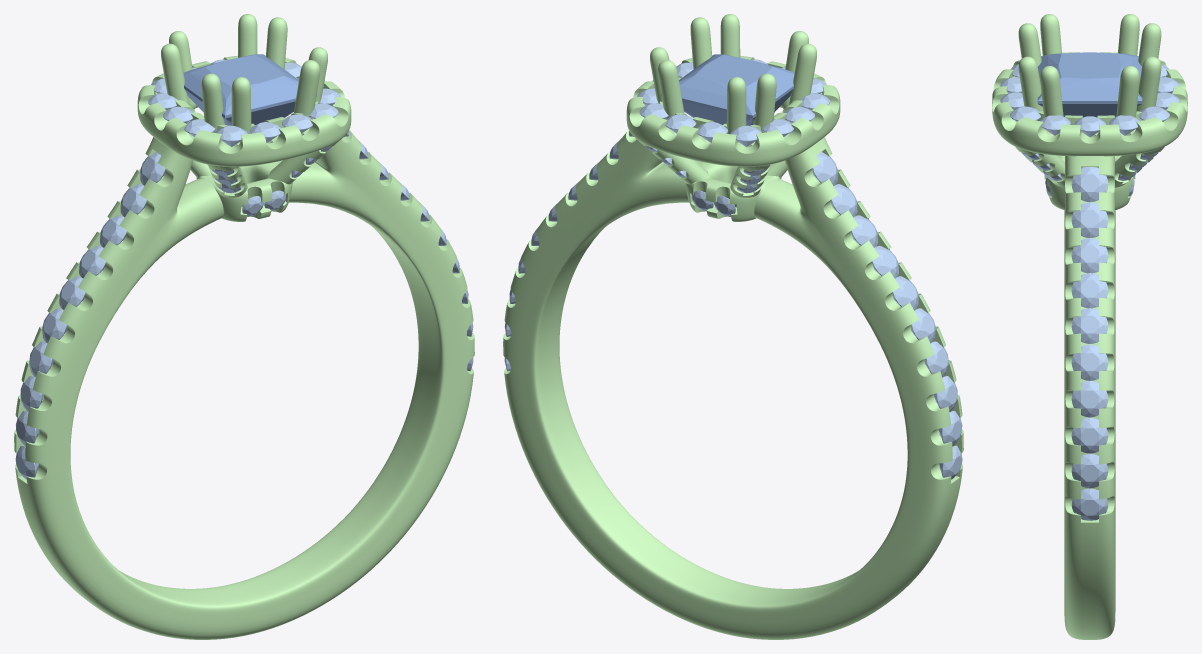
The picture shows the model from 3 angles, left to right: view 1: azimuth 30°, elevation 25°; view 2: azimuth 150°, elevation 25°; view 3: azimuth 270°, elevation 25°; orthographic projection.
Parts seen in each view (by area): view 1: ER- 0169.3dm, Diamond_Princess; view 2: ER- 0169.3dm, Diamond_Princess; view 3: ER- 0169.3dm, Diamond_Round (×15), Diamond_Princess.
Boxes of the visible parts, x1,y1,x2,y2 form: ER- 0169.3dm: [14, 14, 474, 639]; Diamond_Princess: [183, 54, 316, 125]; ER- 0169.3dm: [503, 14, 963, 639]; Diamond_Princess: [661, 54, 794, 125]; ER- 0169.3dm: [992, 14, 1187, 639]; Diamond_Round (×15): [1010, 106, 1169, 520]; Diamond_Princess: [1037, 52, 1142, 117].
Bounding box in the file's own units: 2.44 × 3.03 × 0.9342.
